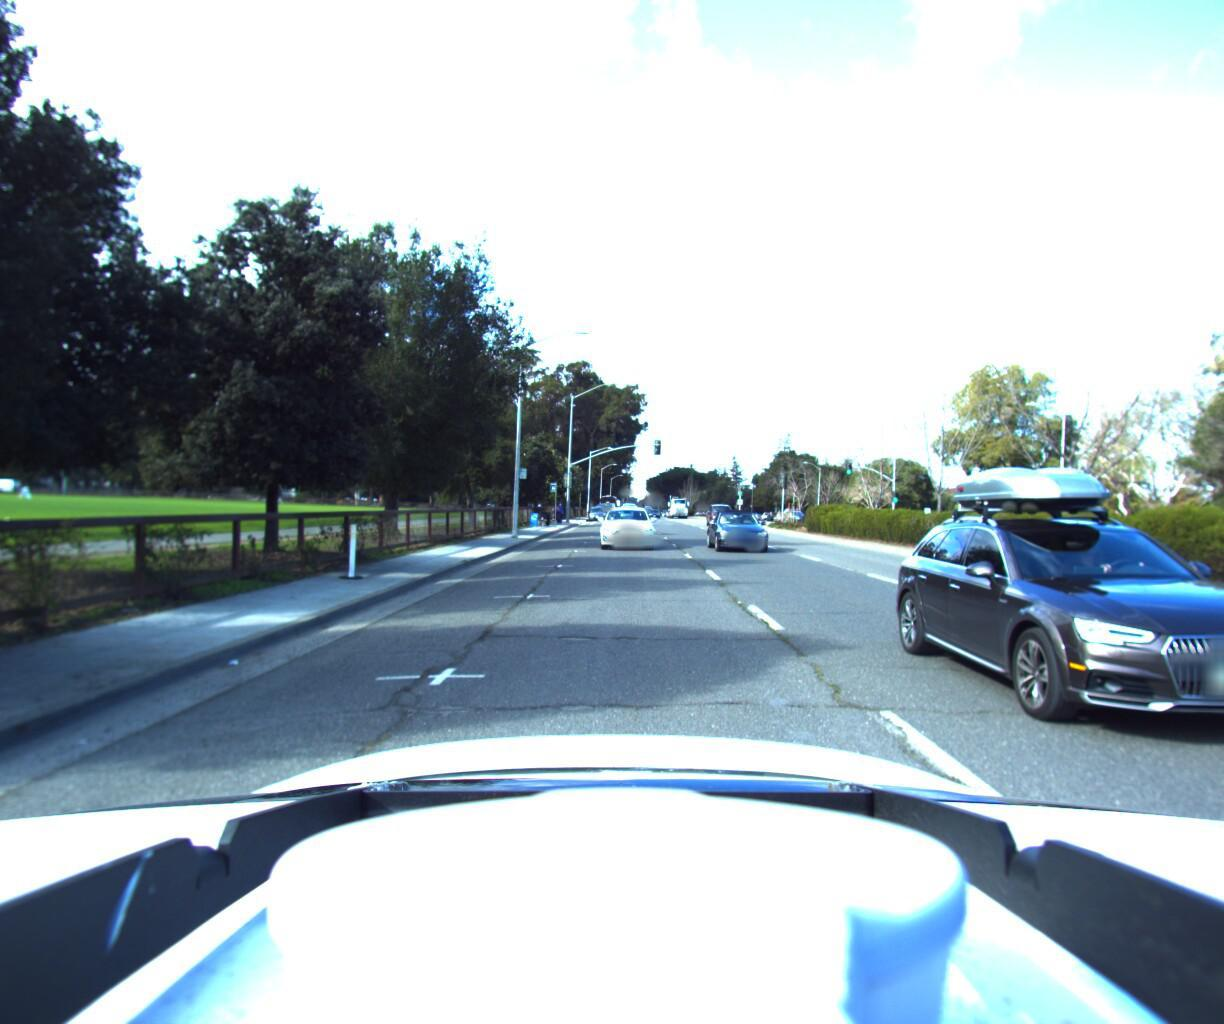car: (926, 390, 1224, 863), (708, 506, 782, 556), (597, 502, 654, 551), (586, 506, 604, 521)
